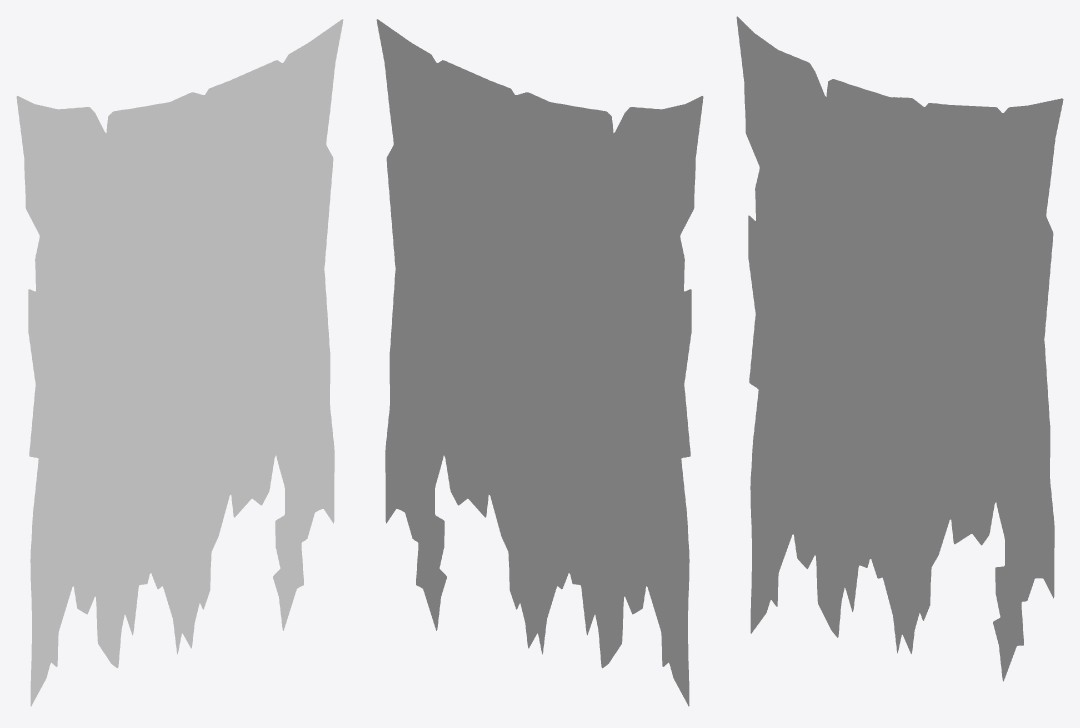
Rendered from SM_Prop_Flag_04.fbx.
3 views of the same model, side by side, from view 1: azimuth 30°, elevation 25°; view 2: azimuth 150°, elevation 25°; view 3: azimuth 330°, elevation 25° (orthographic).
Parts seen in each view (by area): view 1: SM_Prop_Flag_04; view 2: SM_Prop_Flag_04; view 3: SM_Prop_Flag_04.
Part boxes in pixels (x1,y1,x2,y2): SM_Prop_Flag_04: (16,19,343,706); SM_Prop_Flag_04: (376,19,703,706); SM_Prop_Flag_04: (736,16,1063,681).
Bounding box in the file's own units: 148 × 264 × 0.
